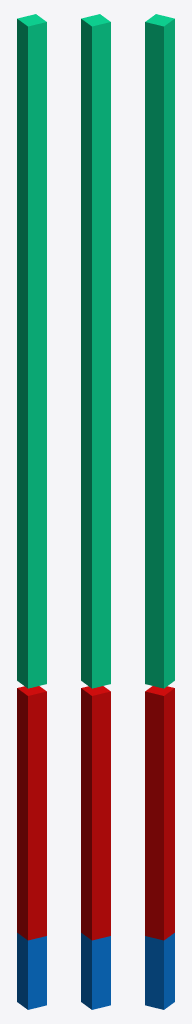
The model's file is robo1.dae.
The picture shows the model from 3 angles, left to right: view 1: azimuth 30°, elevation 25°; view 2: azimuth 210°, elevation 25°; view 3: azimuth 330°, elevation 25°; orthographic projection.
Visible parts, largest first — view 1: mao, anti, braco_; view 2: mao, anti, braco_; view 3: mao, anti, braco_.
Part boxes in pixels (x1,y1,x2,y2): mao: [17, 14, 46, 688]; anti: [17, 686, 46, 940]; braco_: [17, 933, 46, 1009]; mao: [81, 14, 110, 688]; anti: [81, 686, 110, 940]; braco_: [81, 933, 110, 1009]; mao: [145, 14, 174, 688]; anti: [145, 686, 174, 940]; braco_: [145, 933, 174, 1009].
Size of the model in its own units: 2 by 2 by 99.76.
